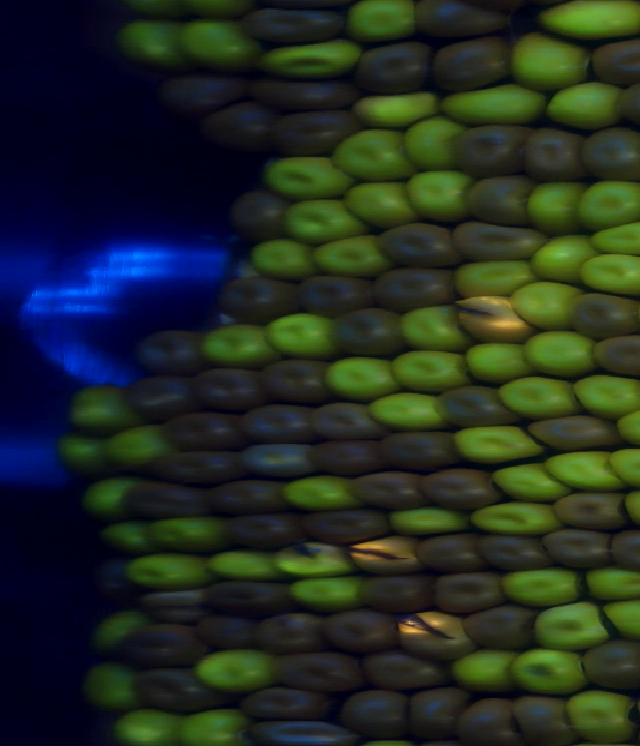fluorescent: (512, 31, 589, 87), (446, 84, 549, 124), (328, 129, 406, 177), (492, 376, 580, 418), (566, 688, 638, 739), (182, 19, 254, 69), (543, 4, 640, 41), (325, 357, 400, 404), (533, 602, 605, 649), (262, 43, 361, 77), (527, 331, 597, 379), (453, 296, 524, 343), (552, 80, 620, 129), (68, 383, 136, 431), (283, 195, 358, 238), (210, 547, 286, 589), (513, 284, 579, 332), (268, 157, 348, 196), (455, 422, 541, 458), (312, 238, 389, 278), (404, 171, 468, 219), (354, 92, 439, 128), (201, 647, 269, 692), (203, 323, 274, 366), (547, 451, 623, 491), (343, 182, 412, 226), (470, 502, 556, 537), (580, 182, 640, 232), (528, 182, 583, 236), (407, 118, 462, 172), (571, 374, 640, 417), (501, 571, 583, 607), (453, 652, 520, 696), (488, 464, 563, 503), (510, 652, 583, 692), (390, 352, 473, 387), (125, 555, 210, 589), (274, 539, 348, 578), (467, 341, 531, 385), (118, 22, 180, 67), (344, 3, 415, 42), (533, 233, 593, 279), (370, 392, 443, 429), (456, 262, 533, 296), (284, 475, 353, 512), (102, 426, 165, 465), (255, 237, 312, 280), (272, 314, 329, 357), (178, 710, 245, 746), (582, 255, 640, 295), (153, 517, 218, 552), (403, 311, 461, 350), (115, 707, 173, 746), (383, 507, 467, 533), (290, 577, 357, 609), (101, 515, 153, 552), (86, 668, 133, 707), (588, 222, 640, 257), (83, 479, 131, 514), (58, 429, 102, 467), (585, 569, 640, 599), (599, 599, 640, 638), (95, 613, 145, 640), (606, 448, 640, 486)
nonfluorescent: (267, 651, 360, 697), (432, 35, 508, 90), (271, 107, 361, 153), (133, 668, 222, 714), (451, 125, 523, 180), (119, 622, 205, 668), (452, 221, 548, 262), (248, 77, 354, 114), (356, 46, 432, 96), (464, 606, 539, 656), (373, 223, 458, 267), (150, 448, 239, 489), (372, 267, 453, 312), (261, 352, 326, 407), (360, 652, 445, 694), (522, 129, 587, 183), (200, 479, 293, 516), (322, 610, 400, 654), (401, 610, 474, 657), (218, 279, 297, 322), (414, 1, 508, 37), (433, 387, 516, 427), (164, 409, 243, 451), (127, 481, 202, 525), (358, 573, 433, 617), (381, 430, 461, 471), (424, 468, 498, 512), (533, 413, 614, 453), (464, 176, 531, 224), (225, 513, 310, 550), (252, 8, 344, 42), (255, 613, 326, 657), (123, 369, 188, 417), (510, 694, 571, 745), (430, 571, 498, 616), (298, 277, 374, 317), (188, 369, 268, 407), (139, 331, 203, 377), (477, 534, 550, 574), (232, 190, 290, 240), (337, 312, 401, 357), (207, 580, 287, 616), (585, 129, 640, 180), (585, 641, 640, 692), (204, 104, 267, 148), (255, 717, 354, 745), (352, 472, 423, 511), (461, 697, 521, 743), (241, 402, 311, 441), (405, 690, 463, 737), (544, 528, 612, 568), (553, 492, 622, 531), (573, 292, 635, 335), (306, 441, 383, 475), (299, 512, 389, 541), (169, 69, 237, 107), (309, 402, 378, 439), (243, 685, 322, 717), (352, 538, 420, 574), (418, 532, 483, 569), (343, 692, 405, 730), (239, 442, 306, 477), (143, 586, 207, 620), (590, 333, 640, 376), (592, 39, 640, 82), (201, 614, 256, 648)
